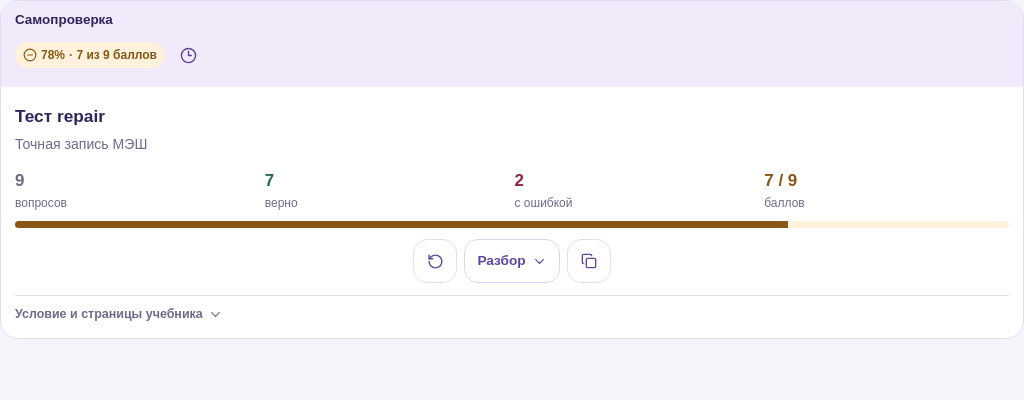
Test: approved compact quiz table › keeps the request retryable after a rejected write without inventing a pending job
Click the button named "Создать новый тест с учётом всех попыток" at x=436, y=261, box [414,239,458,283]
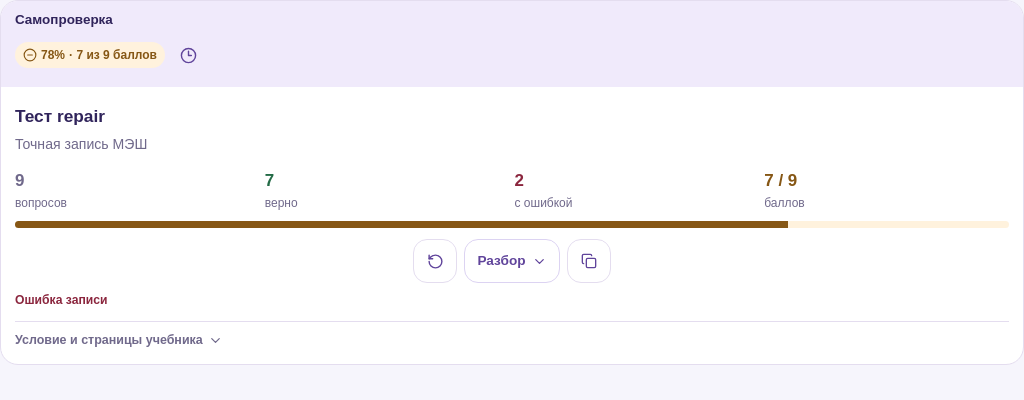
Check: the message "Ошибка записи" is shown, box [15,293,108,307]
Click the button named "Создать новый тест с учётом всех попыток" at x=436, y=261, box [414,239,458,283]
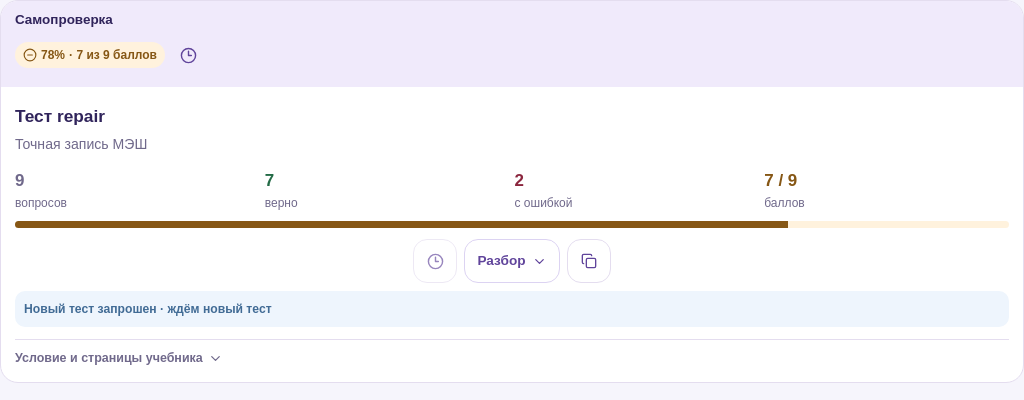
Check: the button named "Создать новый тест с учётом всех попыток" is disabled, box [414,239,458,283]
Check: the message "Новый тест запрошен · ждём новый тест" is shown, box [15,291,1009,327]
